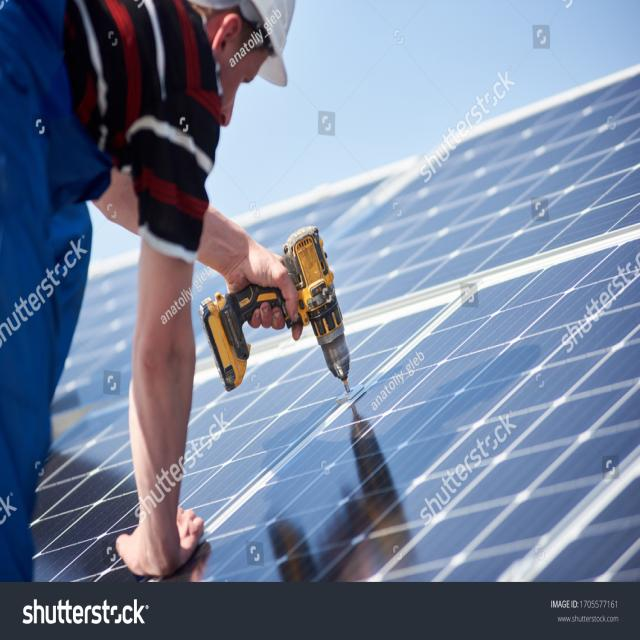clean-solar-panel: (31, 67, 640, 582)
